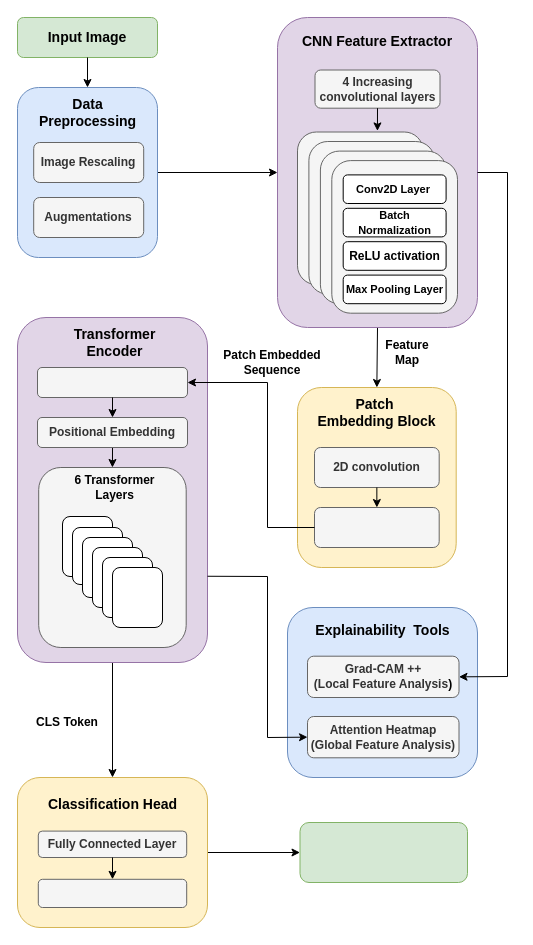
Image size: 533x945. Some labels were removed from this diagram. Here are the shapes that lost their labels. From the top down, the box of each, then its label:
(36, 366, 188, 398): Add CLS Token
(314, 506, 439, 548): Flatten + Linear Layer
(299, 822, 468, 882): Classification Output (9 Classes)
(37, 878, 187, 908): Soft-max layer
